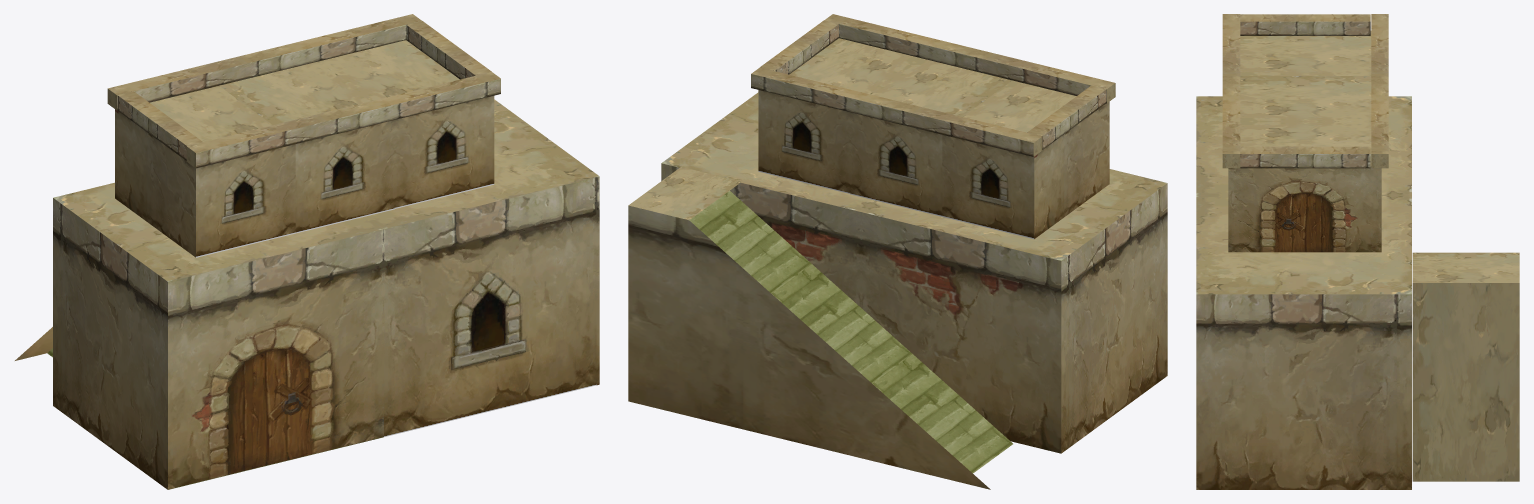
The model's file is shamo_fangzi_2.fbx.
3 views of the same model, side by side, from view 1: azimuth 30°, elevation 25°; view 2: azimuth 150°, elevation 25°; view 3: azimuth 270°, elevation 25° (orthographic). The views are drawn at different scales.
Visible parts, largest first — view 1: polySurface261, polySurface255, polySurface254, polySurface253, polySurface262, polySurface256, polySurface258, polySurface257; view 2: polySurface261, polySurface259, polySurface260, polySurface255, polySurface254, polySurface253, polySurface256, polySurface262, polySurface258, polySurface257; view 3: polySurface261, polySurface259, polySurface263, polySurface254, polySurface255, polySurface253, polySurface257, polySurface262, polySurface258, polySurface256.
Part boxes in pixels (x1,y1,x2,y2): polySurface261: [53, 99, 599, 489]; polySurface255: [115, 86, 295, 257]; polySurface254: [219, 61, 394, 233]; polySurface253: [318, 40, 494, 208]; polySurface262: [186, 72, 500, 168]; polySurface256: [107, 14, 421, 110]; polySurface258: [117, 91, 202, 160]; polySurface257: [406, 21, 491, 79]; polySurface261: [661, 92, 1167, 453]; polySurface259: [628, 167, 990, 489]; polySurface260: [689, 191, 1012, 473]; polySurface255: [942, 80, 1109, 239]; polySurface254: [850, 58, 1011, 216]; polySurface253: [758, 38, 919, 193]; polySurface256: [751, 67, 1042, 156]; polySurface262: [824, 14, 1115, 103]; polySurface258: [1027, 85, 1106, 149]; polySurface257: [760, 20, 838, 74]; polySurface261: [1196, 96, 1411, 489]; polySurface259: [1412, 252, 1519, 481]; polySurface263: [1228, 166, 1381, 252]; polySurface254: [1240, 76, 1371, 121]; polySurface255: [1240, 31, 1371, 75]; polySurface253: [1240, 121, 1371, 165]; polySurface257: [1240, 146, 1370, 168]; polySurface262: [1222, 14, 1240, 168]; polySurface258: [1240, 14, 1370, 35]; polySurface256: [1371, 14, 1388, 168].
Size of the model in its own units: 12.41 by 8.73 by 8.57.
